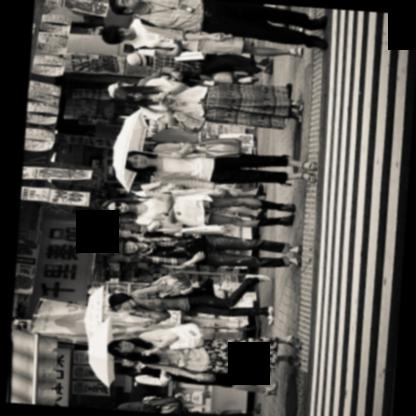handbag: (132, 272, 191, 298), (150, 108, 206, 133), (189, 136, 241, 157), (166, 322, 205, 348), (142, 394, 186, 415), (154, 224, 227, 234), (169, 184, 225, 197), (150, 182, 187, 192), (209, 70, 235, 81)
